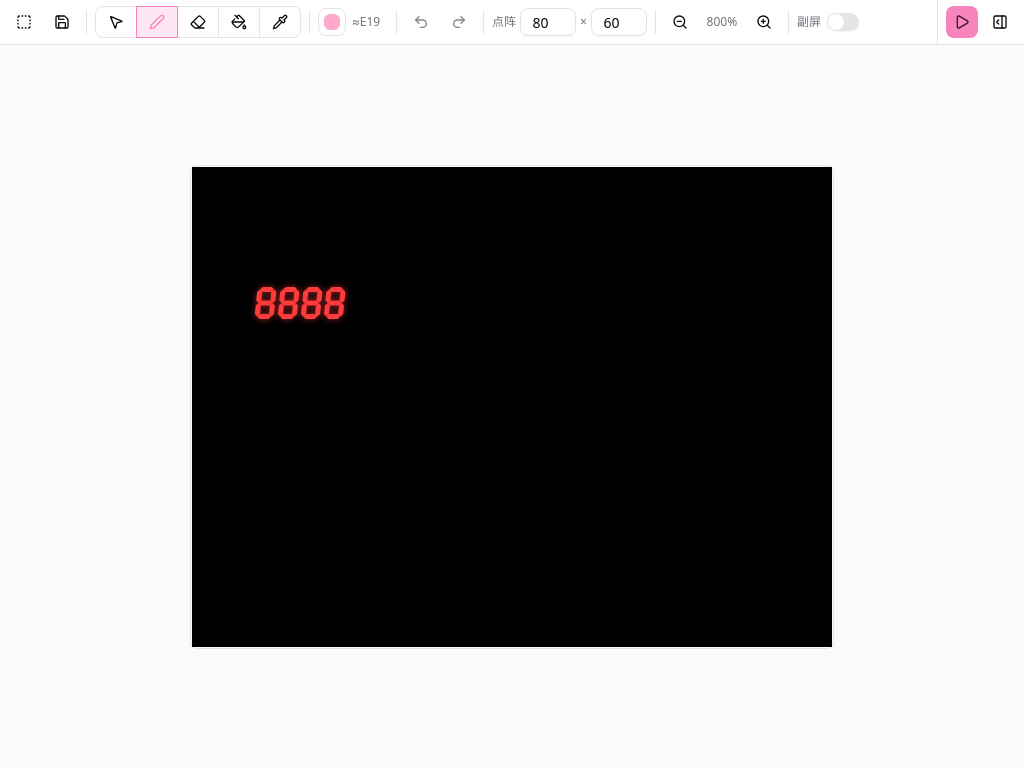
EditorPage — 移动端侧栏默认收纳 › 窄屏默认不渲染侧栏，点击工具栏按钮可临时展开
The image size is (1024, 768).
Click the button with test id "toggle-sidebar": (1000, 22) [984,6,1016,38]
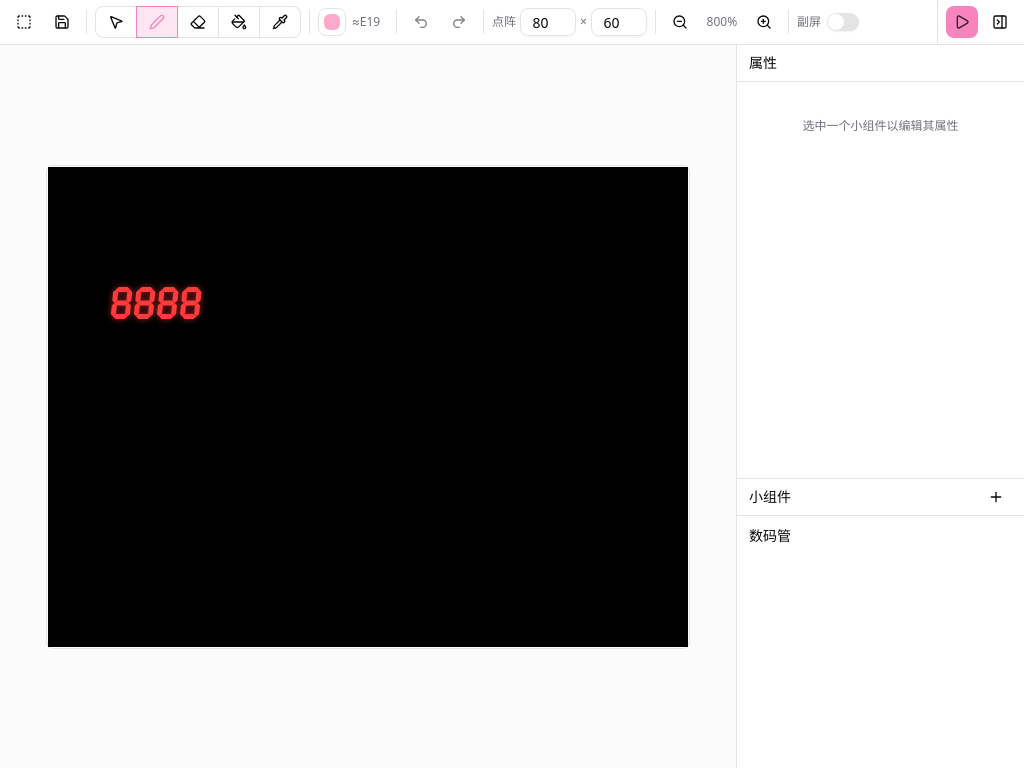
Expected: the element with test id "sidebar" is shown, [736,45,1023,767]
